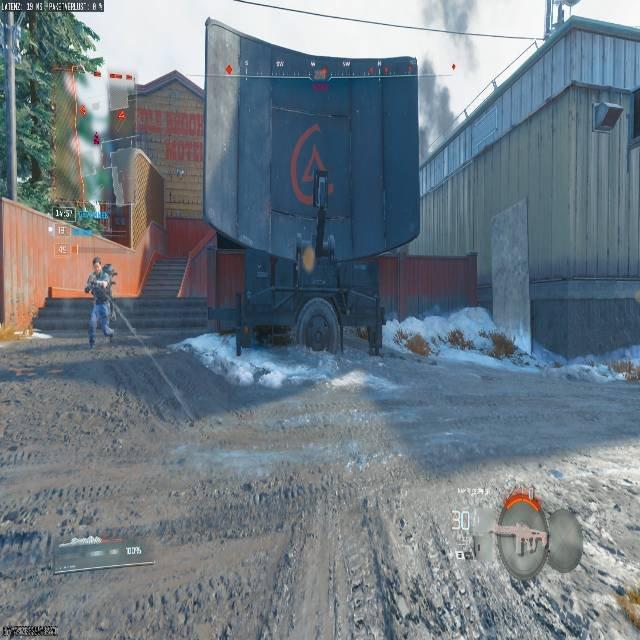head: (94, 256, 113, 274), (92, 256, 102, 271), (98, 260, 109, 272)
player: (84, 256, 117, 349)
